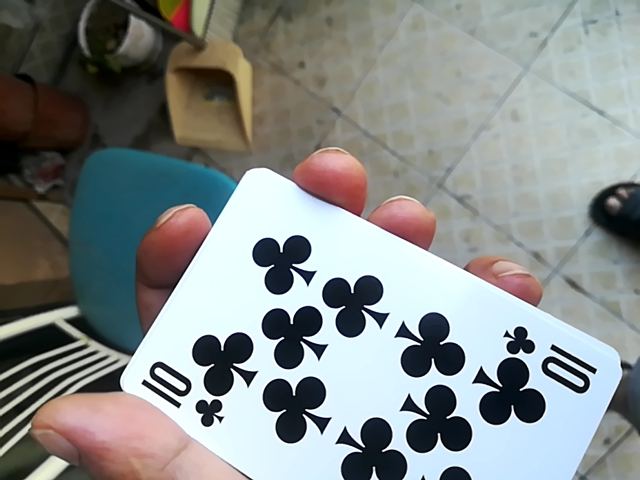mh 10: (86, 163, 623, 474)
